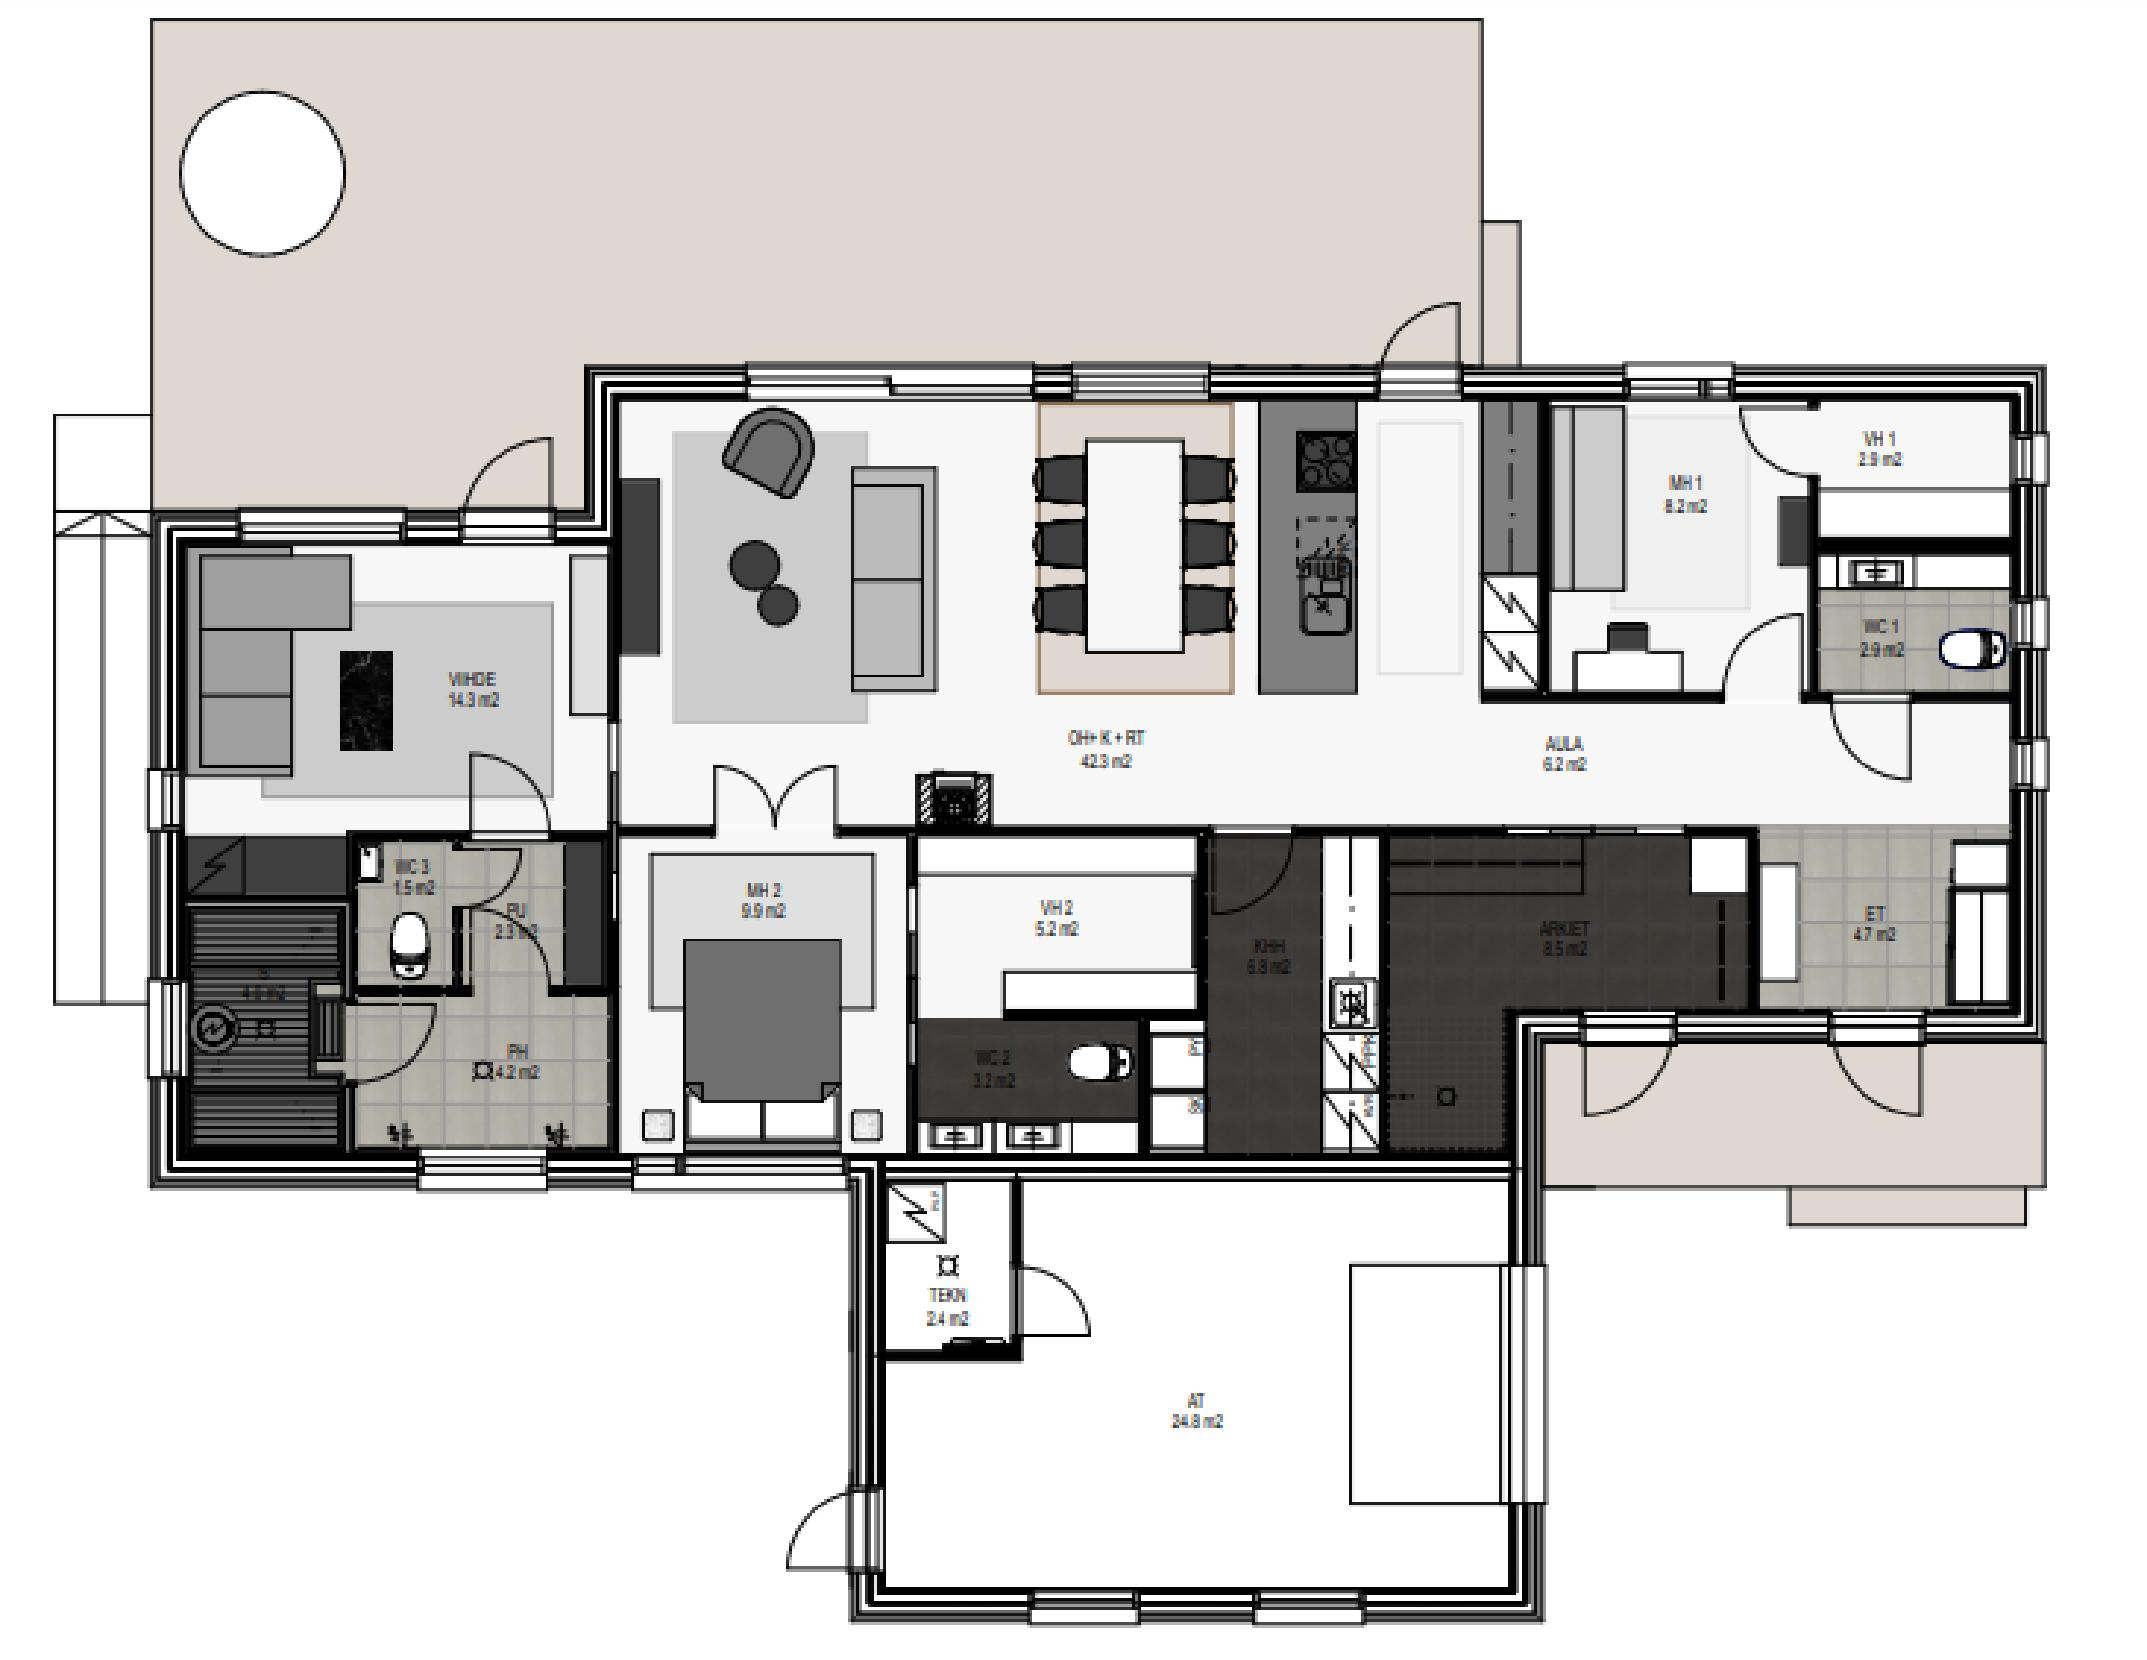door: (1567, 1012, 1676, 1125), (457, 423, 554, 543), (1832, 1012, 1936, 1118), (1821, 686, 1927, 787), (782, 1484, 896, 1576), (709, 761, 842, 840), (1202, 820, 1297, 920), (347, 995, 446, 1087), (1373, 296, 1460, 401), (471, 902, 561, 1000), (1717, 604, 1802, 707), (464, 749, 549, 845), (1025, 1263, 1112, 1353), (1739, 406, 1840, 479), (457, 838, 535, 909)
window: (640, 1150, 843, 1198), (230, 500, 410, 543), (1068, 359, 1202, 401), (415, 1150, 542, 1191), (1026, 1582, 1134, 1630), (1263, 1578, 1363, 1630), (1626, 354, 1730, 390), (148, 763, 192, 845), (749, 366, 889, 388), (152, 981, 181, 1066), (2006, 437, 2042, 488), (2009, 740, 2044, 787), (2022, 594, 2048, 650)
zone: (153, 17, 1478, 514), (610, 402, 2008, 833), (884, 1172, 1507, 1590), (192, 538, 613, 1155), (1387, 838, 1765, 1164), (910, 829, 1204, 1162), (615, 831, 903, 1150), (1546, 1028, 2041, 1197), (361, 829, 608, 1151), (1194, 833, 1370, 1150), (1758, 833, 2006, 1000)
